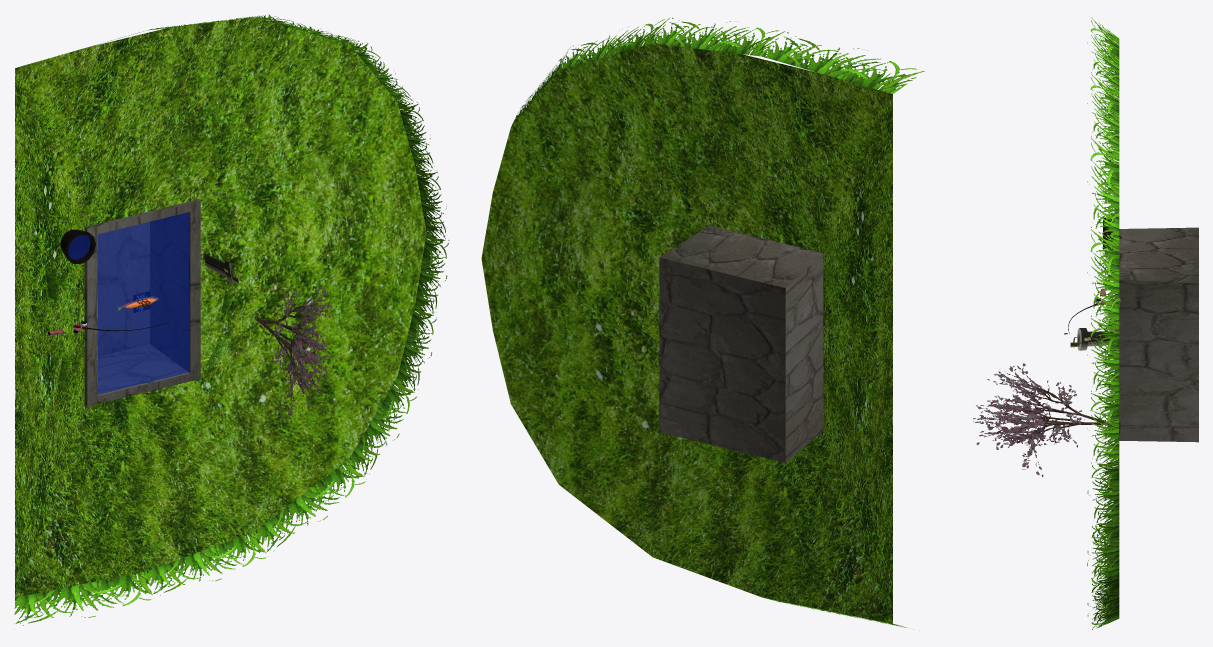
File: laghetto.obj
3 views of the same model, side by side, from view 1: azimuth 30°, elevation 25°; view 2: azimuth 150°, elevation 25°; view 3: azimuth 270°, elevation 25° (orthographic). The views are drawn at different scales.
Visible parts, largest first — view 1: Sfondo_18, Vasca_16, Laghetto_19, Secchio_15; view 2: Sfondo_18, Vasca_16; view 3: Sfondo_18, Vasca_16.
Part boxes in pixels (x1,y1,x2,y2): Sfondo_18: (14, 14, 449, 625); Vasca_16: (84, 199, 200, 406); Laghetto_19: (98, 212, 189, 394); Secchio_15: (60, 229, 95, 264); Sfondo_18: (481, 17, 924, 627); Vasca_16: (659, 225, 823, 462); Sfondo_18: (973, 17, 1120, 629); Vasca_16: (1115, 227, 1198, 442).
Bounding box in the file's own units: 12.87 × 16.16 × 6.73.
Materials: 19 (10 with a texture image).
